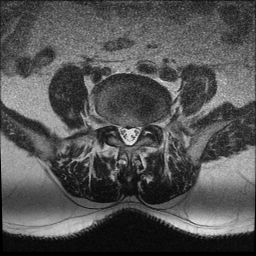CCS_normal: (125, 118, 133, 154)
LFS_severe_stenosis: (141, 115, 149, 135)
LLS_normal: (133, 117, 142, 147)
RFS_severe_stenosis: (110, 113, 118, 137)
RLS_normal: (117, 116, 125, 145)
